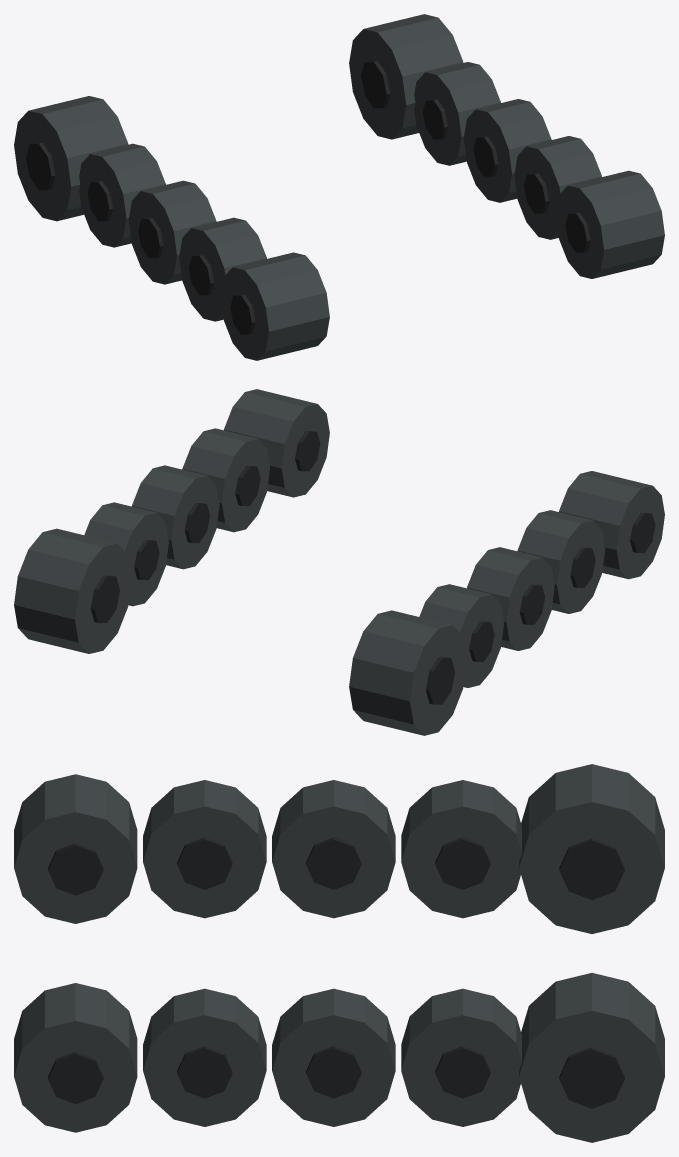
The model's file is pvo_wheels.glb.
The picture shows the model from 3 angles, top to bottom: view 1: azimuth 30°, elevation 25°; view 2: azimuth 150°, elevation 25°; view 3: azimuth 270°, elevation 25°; orthographic projection. The views are drawn at different scales.
Parts seen in each view (by area): view 1: pvo_idler_R, pvo_idler_L, pvo_sprocket_L, pvo_sprocket_R, pvo_wheel_L1, pvo_wheel_R1, pvo_wheel_L2, pvo_wheel_R2, pvo_wheel_R0, pvo_wheel_L0; view 2: pvo_sprocket_L, pvo_sprocket_R, pvo_idler_R, pvo_idler_L, pvo_wheel_L0, pvo_wheel_R1, pvo_wheel_L1, pvo_wheel_R0, pvo_wheel_L2, pvo_wheel_R2; view 3: pvo_sprocket_L, pvo_sprocket_R, pvo_idler_L, pvo_idler_R, pvo_wheel_L1, pvo_wheel_R1, pvo_wheel_L0, pvo_wheel_R0, pvo_wheel_L2, pvo_wheel_R2.
Boxes of the visible parts, left/top/right/bottom form: pvo_idler_R: left=220, top=252, right=329, bottom=360; pvo_idler_L: left=555, top=170, right=664, bottom=278; pvo_sprocket_L: left=349, top=14, right=463, bottom=139; pvo_sprocket_R: left=14, top=96, right=128, bottom=221; pvo_wheel_L1: left=463, top=99, right=551, bottom=202; pvo_wheel_R1: left=128, top=180, right=216, bottom=284; pvo_wheel_L2: left=414, top=62, right=500, bottom=165; pvo_wheel_R2: left=79, top=143, right=165, bottom=247; pvo_wheel_R0: left=179, top=217, right=266, bottom=321; pvo_wheel_L0: left=514, top=136, right=601, bottom=239; pvo_sprocket_L: left=14, top=528, right=131, bottom=653; pvo_sprocket_R: left=349, top=610, right=466, bottom=735; pvo_idler_R: left=559, top=471, right=664, bottom=579; pvo_idler_L: left=224, top=389, right=329, bottom=497; pvo_wheel_L0: left=182, top=428, right=270, bottom=532; pvo_wheel_R1: left=467, top=547, right=554, bottom=650; pvo_wheel_L1: left=131, top=465, right=219, bottom=569; pvo_wheel_R0: left=517, top=510, right=605, bottom=613; pvo_wheel_L2: left=84, top=502, right=168, bottom=606; pvo_wheel_R2: left=419, top=584, right=503, bottom=687; pvo_sprocket_L: left=519, top=973, right=664, bottom=1142; pvo_sprocket_R: left=519, top=764, right=664, bottom=933; pvo_idler_L: left=14, top=983, right=137, bottom=1132; pvo_idler_R: left=14, top=774, right=137, bottom=923; pvo_wheel_L1: left=272, top=988, right=395, bottom=1126; pvo_wheel_R1: left=272, top=780, right=395, bottom=918; pvo_wheel_L0: left=143, top=988, right=266, bottom=1126; pvo_wheel_R0: left=143, top=780, right=266, bottom=918; pvo_wheel_L2: left=401, top=988, right=521, bottom=1126; pvo_wheel_R2: left=401, top=780, right=521, bottom=918.
Size of the model in its own units: 1.06 by 0.26 by 1.16.
1 material, 1 textured.
